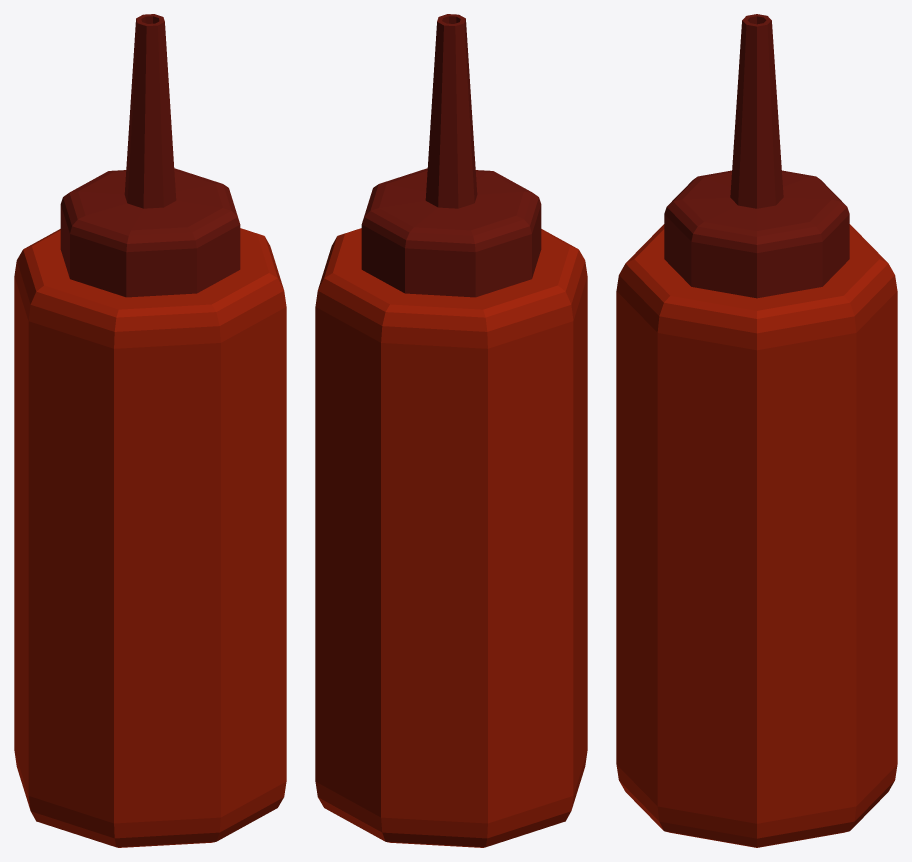
Rendered from mcdonalds sauce textured.fbx.
3 renders of one model, left to right at view 1: azimuth 30°, elevation 25°; view 2: azimuth 150°, elevation 25°; view 3: azimuth 270°, elevation 25°, orthographic.
Parts seen in each view (by area): view 1: mcdonalds sauce; view 2: mcdonalds sauce; view 3: mcdonalds sauce.
Part boxes in pixels (x1=…): mcdonalds sauce: x1=14, y1=14, x2=286, y2=847; mcdonalds sauce: x1=315, y1=14, x2=587, y2=847; mcdonalds sauce: x1=616, y1=14, x2=897, y2=847.
Size of the model in its own units: 190 by 578 by 190.
